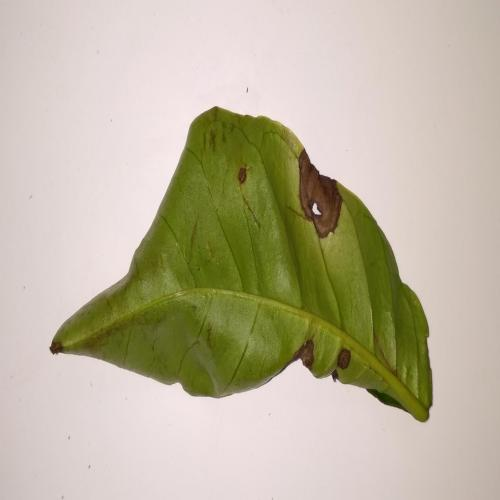miner: (298, 148, 342, 237)
